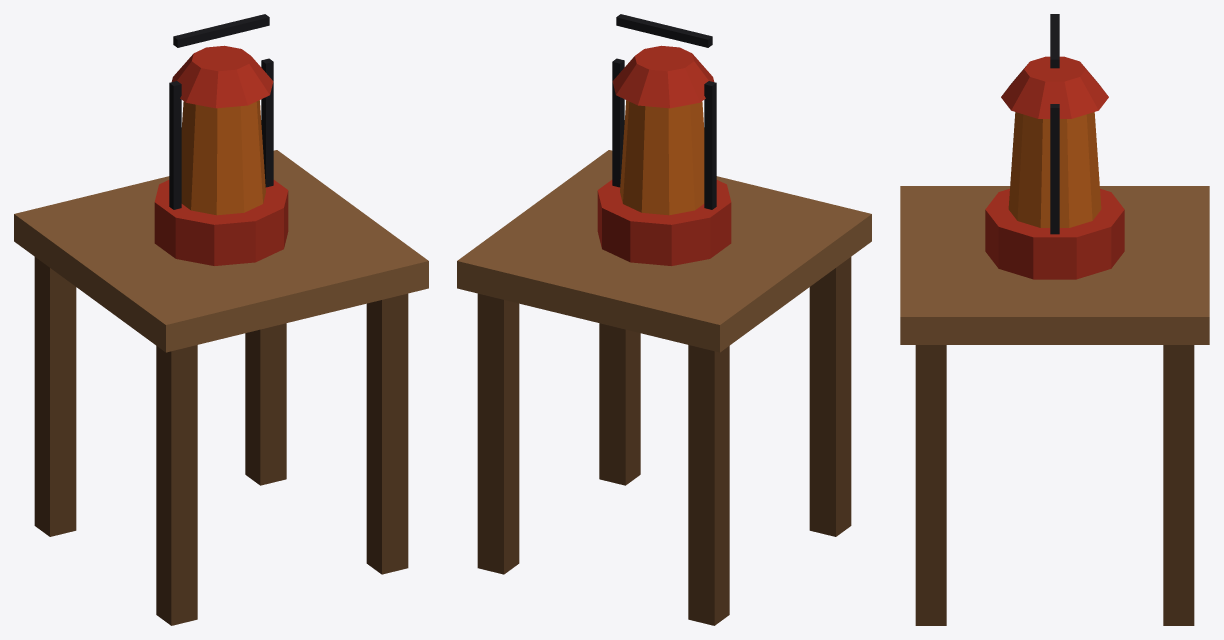
The model's file is prop_lantern.e0771b90c222.glb.
3 views of the same model, side by side, from view 1: azimuth 30°, elevation 25°; view 2: azimuth 150°, elevation 25°; view 3: azimuth 270°, elevation 25° (orthographic).
Visible parts, largest first — view 1: body; view 2: body; view 3: body.
Part boxes in pixels (x1,y1,x2,y2): body: (14,14,428,625); body: (457,14,871,625); body: (900,14,1209,625).
Size of the model in its own units: 0.4 by 0.756 by 0.4.
